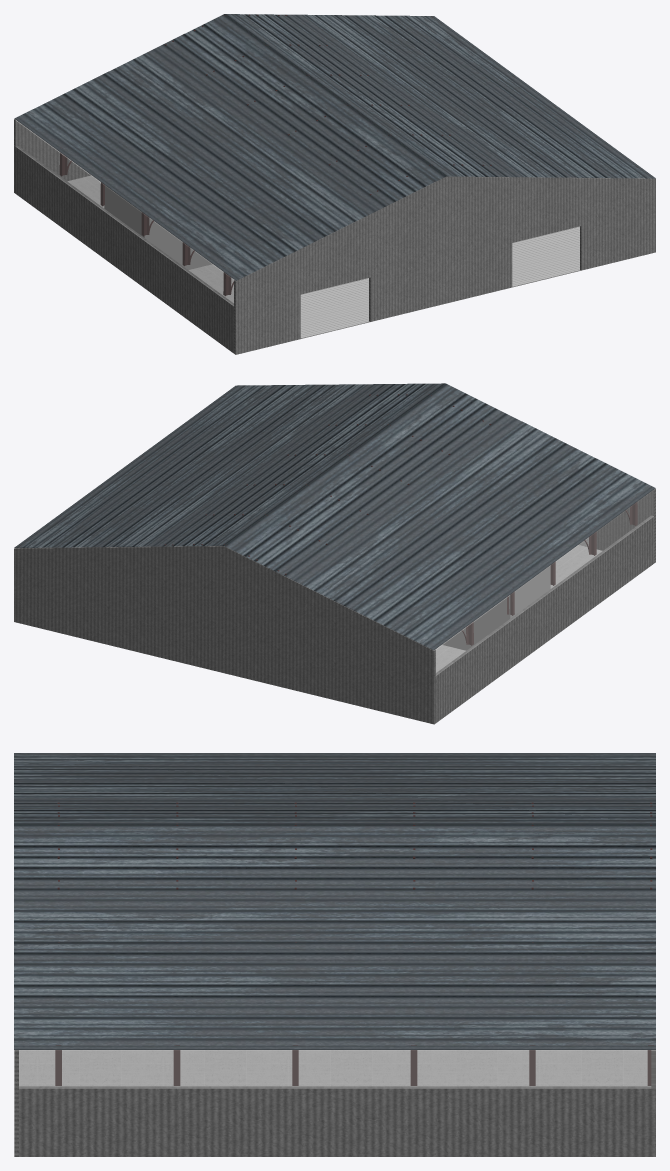
File: U_bodega.fbx
The picture shows the model from 3 angles, top to bottom: view 1: azimuth 30°, elevation 25°; view 2: azimuth 150°, elevation 25°; view 3: azimuth 270°, elevation 25°; orthographic projection. The views are drawn at different scales.
Parts seen in each view (by area): view 1: BODEGA:pPlane2, BODEGA:polySurface11, BODEGA:pPlane1, BODEGA:polySurface2, BODEGA:polySurface4, BODEGA:pCube1, pCube6, pCube7, BODEGA:polySurface15, BODEGA:polySurface12, BODEGA:polySurface9; view 2: BODEGA:pPlane2, BODEGA:polySurface15, BODEGA:pPlane1, BODEGA:polySurface2, BODEGA:polySurface4, pCube7, BODEGA:polySurface11, BODEGA:polySurface12, BODEGA:polySurface9; view 3: BODEGA:pPlane1, BODEGA:pPlane2, BODEGA:polySurface3, BODEGA:polySurface5, BODEGA:polySurface12, BODEGA:polySurface9.
Boxes of the visible parts, bbox=[...] form: BODEGA:pPlane2: bbox=[14, 14, 445, 280]; BODEGA:polySurface11: bbox=[234, 176, 655, 354]; BODEGA:pPlane1: bbox=[224, 14, 655, 178]; BODEGA:polySurface2: bbox=[14, 145, 233, 353]; BODEGA:polySurface4: bbox=[16, 120, 233, 305]; BODEGA:pCube1: bbox=[300, 278, 368, 338]; pCube6: bbox=[512, 226, 579, 286]; pCube7: bbox=[104, 185, 212, 269]; BODEGA:polySurface15: bbox=[14, 119, 90, 181]; BODEGA:polySurface12: bbox=[67, 175, 368, 320]; BODEGA:polySurface9: bbox=[59, 14, 637, 295]; BODEGA:pPlane2: bbox=[224, 383, 655, 650]; BODEGA:polySurface15: bbox=[14, 546, 435, 724]; BODEGA:pPlane1: bbox=[14, 383, 445, 547]; BODEGA:polySurface2: bbox=[434, 515, 654, 724]; BODEGA:polySurface4: bbox=[435, 490, 653, 675]; pCube7: bbox=[442, 565, 550, 650]; BODEGA:polySurface11: bbox=[578, 488, 655, 562]; BODEGA:polySurface12: bbox=[435, 545, 601, 672]; BODEGA:polySurface9: bbox=[19, 394, 637, 645]; BODEGA:pPlane1: bbox=[14, 824, 655, 1049]; BODEGA:pPlane2: bbox=[14, 753, 655, 824]; BODEGA:polySurface3: bbox=[19, 1086, 655, 1156]; BODEGA:polySurface5: bbox=[19, 1050, 655, 1088]; BODEGA:polySurface12: bbox=[19, 1050, 650, 1086]; BODEGA:polySurface9: bbox=[55, 802, 653, 1085].
Size of the model in its own units: 29.65 by 8.59 by 27.09.
9 materials, 4 textured.
